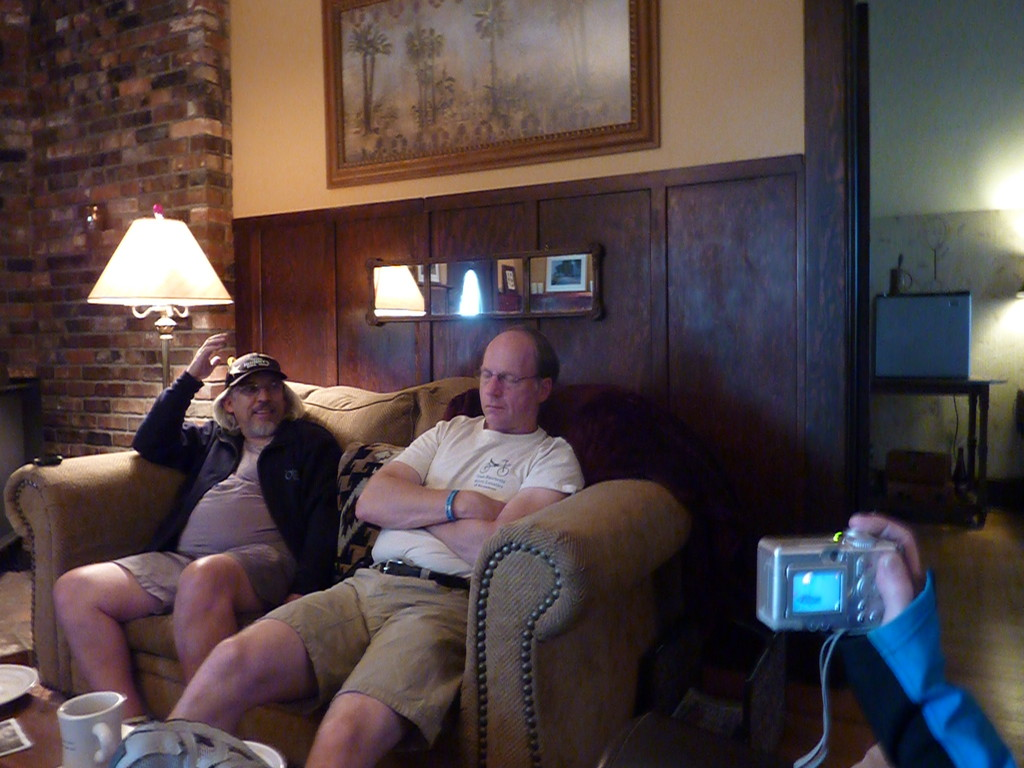Couch: (184, 340, 728, 768)
